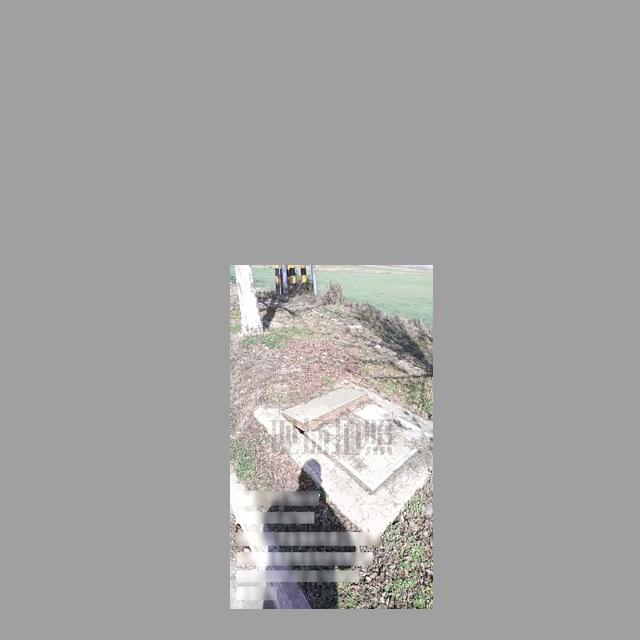uncovered: (279, 379, 426, 472)
